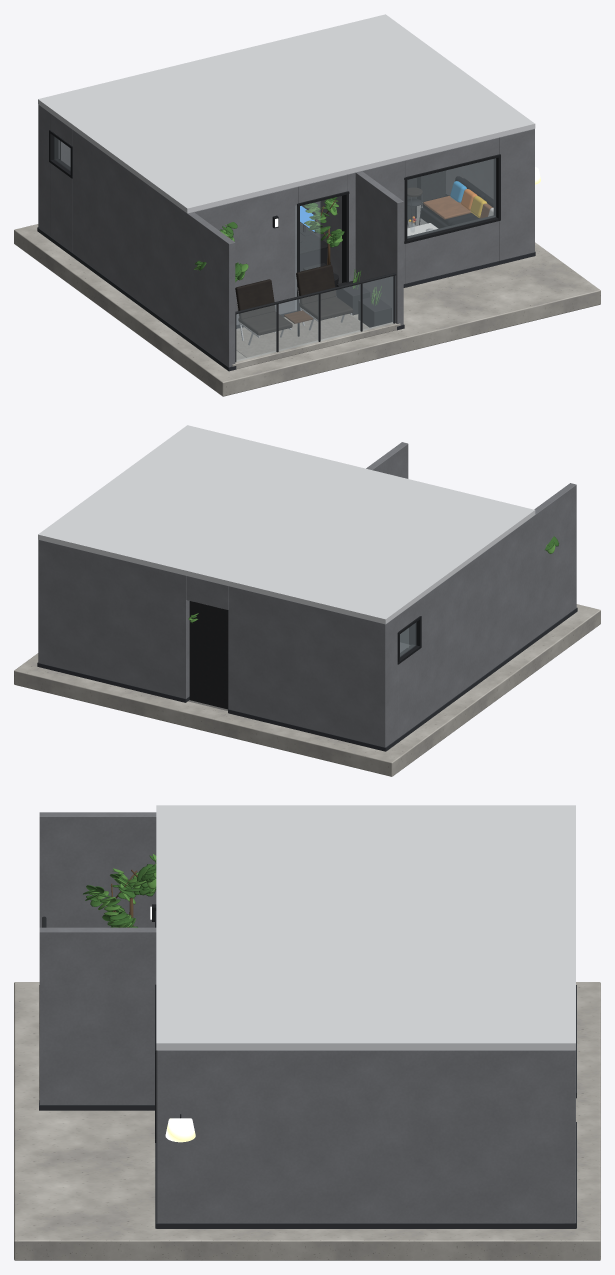
File: apartment-loft.glb
The picture shows the model from 3 angles, top to bottom: view 1: azimuth 30°, elevation 25°; view 2: azimuth 150°, elevation 25°; view 3: azimuth 270°, elevation 25°; orthographic projection. The views are drawn at different scales.
Visible parts, largest first — view 1: Ceiling, Slab, Wall_W_04, Glass_S_17, Wall_S_15, Wall_E_09, Glass_S_14, Wall_S_11, Wall_S_12, Rug_terrace, Wall_S_10, Wall_W_05 (+19 smaller); view 2: Ceiling, Wall_N_00, Wall_W_04, Wall_N_01, Slab, Door_entry, Wall_W_03, Wall_W_05, Wall_N_02, Wall_E_09, Skirting_W_04, Skirting_N_00 (+1 smaller); view 3: Ceiling, Wall_E_08, Slab, Wall_E_09, Wall_W_04, Skirting_E_08, Skirting_E_09, FloorLamp_shade.
Part boxes in pixels (x1,y1,x2,y2): Ceiling: [38, 14, 535, 213]; Slab: [14, 224, 600, 396]; Wall_W_04: [72, 129, 235, 367]; Glass_S_17: [236, 276, 393, 361]; Wall_S_15: [194, 186, 297, 324]; Wall_E_09: [355, 171, 403, 325]; Glass_S_14: [407, 158, 495, 238]; Wall_S_11: [499, 129, 534, 260]; Wall_S_12: [405, 221, 498, 283]; Rug_terrace: [236, 314, 367, 357]; Wall_S_10: [347, 160, 405, 283]; Wall_W_05: [50, 163, 72, 251]; Ceiling: [38, 425, 535, 624]; Wall_N_00: [228, 586, 385, 747]; Wall_W_04: [420, 483, 576, 722]; Wall_N_01: [38, 539, 189, 698]; Slab: [14, 604, 600, 776]; Door_entry: [189, 601, 228, 709]; Wall_W_03: [385, 615, 398, 746]; Wall_W_05: [398, 649, 419, 737]; Wall_N_02: [186, 575, 228, 609]; Wall_E_09: [366, 442, 408, 478]; Skirting_W_04: [420, 607, 577, 726]; Skirting_N_00: [228, 709, 385, 751]; Ceiling: [156, 805, 575, 1050]; Wall_E_08: [157, 1050, 575, 1223]; Slab: [14, 982, 600, 1260]; Wall_E_09: [39, 927, 156, 1104]; Wall_W_04: [39, 812, 156, 927]; Skirting_E_08: [156, 1223, 575, 1228]; Skirting_E_09: [39, 1102, 154, 1110]; FloorLamp_shade: [165, 1118, 195, 1142].
Size of the model in its own units: 8.1 by 3.02 by 7.75.
47 materials, 16 textured.
